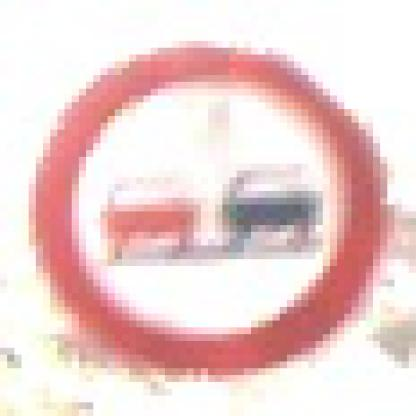No Overtaking: (37, 42, 381, 383)
